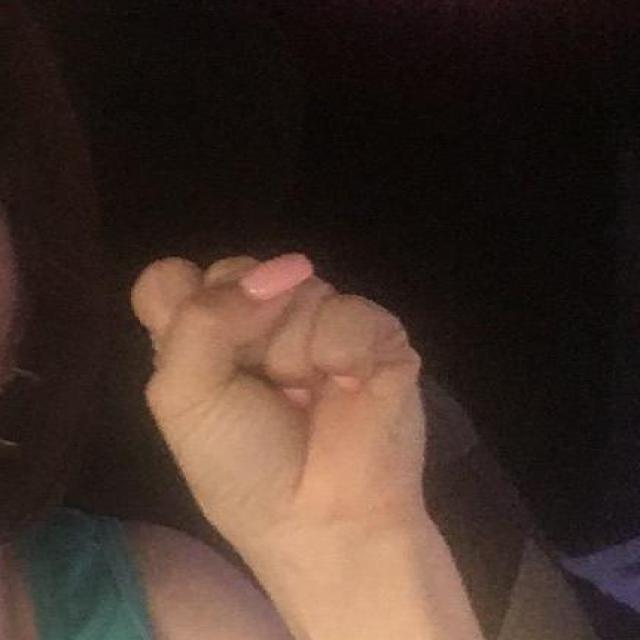hand: (131, 250, 490, 639)
